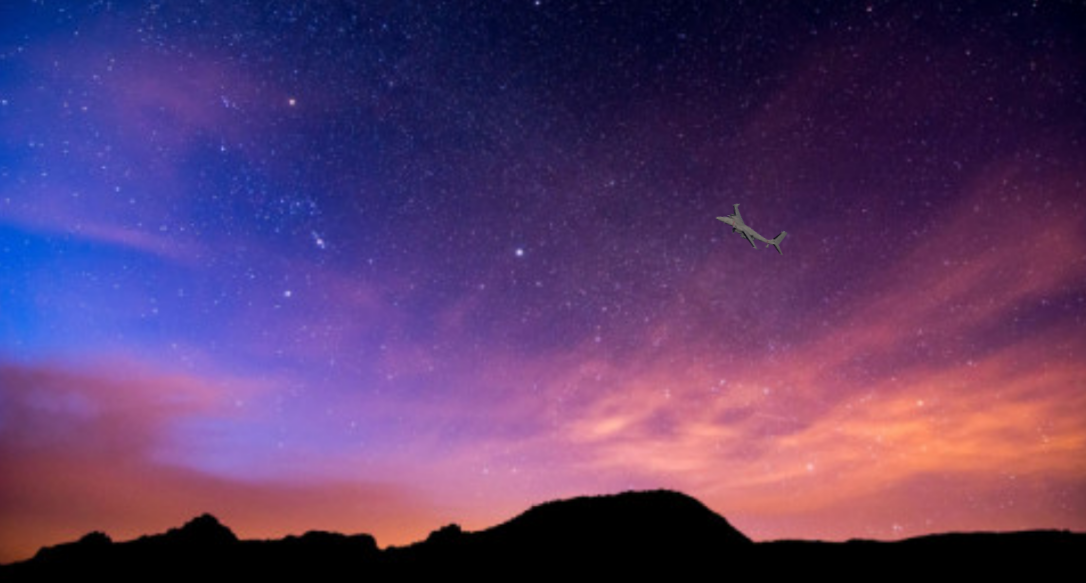military drone: (716, 203, 787, 255)
